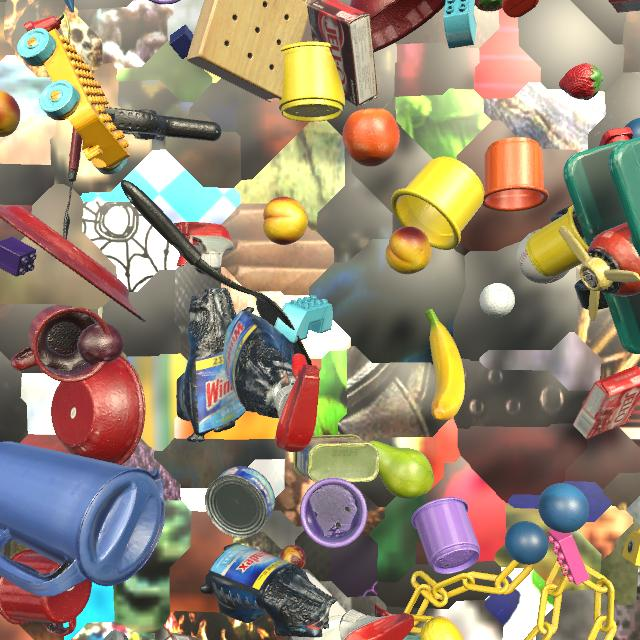ycb_007_tuna_fish_can: (205, 466, 275, 538)
ycb_008_pudding_box: (307, 0, 378, 107), (164, 633, 202, 640)
ycb_009_gelatin_box: (573, 366, 640, 439), (608, 0, 640, 13)
ycb_010_potted_meat_can: (294, 434, 379, 483)
ycb_011_banana: (425, 309, 465, 421)
ycb_012_strawberry: (559, 63, 603, 100), (475, 0, 503, 11)
ycb_014_lemon: (420, 616, 464, 640)
ycb_015_peach: (385, 226, 432, 274), (263, 197, 308, 245), (0, 90, 20, 137)
ycb_016_pear: (369, 441, 434, 499)
ycb_017_orange: (342, 109, 400, 167)
ycb_018_plum: (77, 323, 124, 365)
